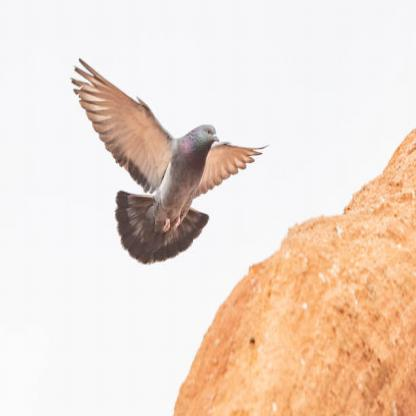Flying Rat: (36, 70, 269, 291)
